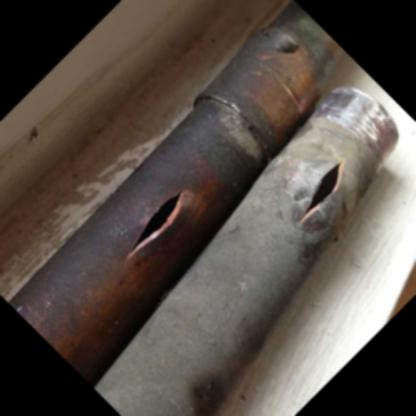burst: (128, 185, 189, 265), (297, 157, 349, 226)
